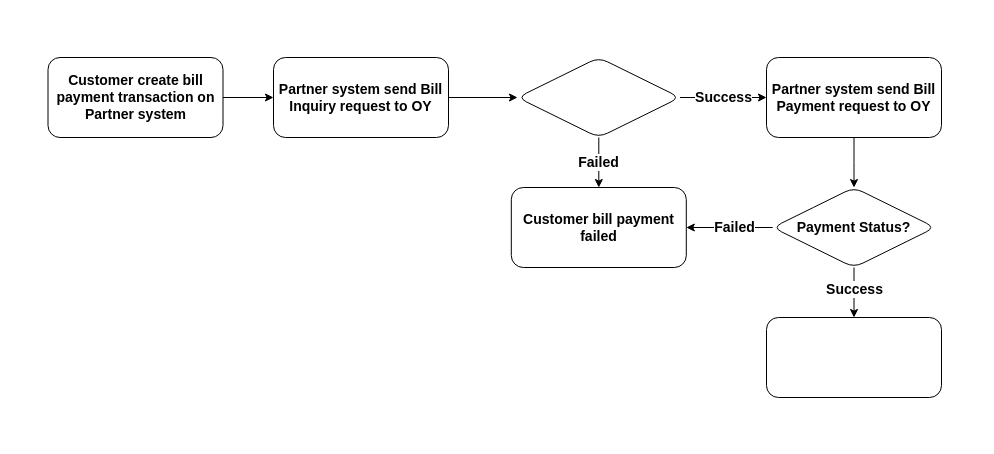
Image size: 994x454. Some labels were removed from this diagram. The box of each missing label's shape, as (x1, y1, x2, y2) in pixels:
Customer bill paid: (766, 316, 942, 398)
Inquiry Status?: (516, 56, 680, 138)
